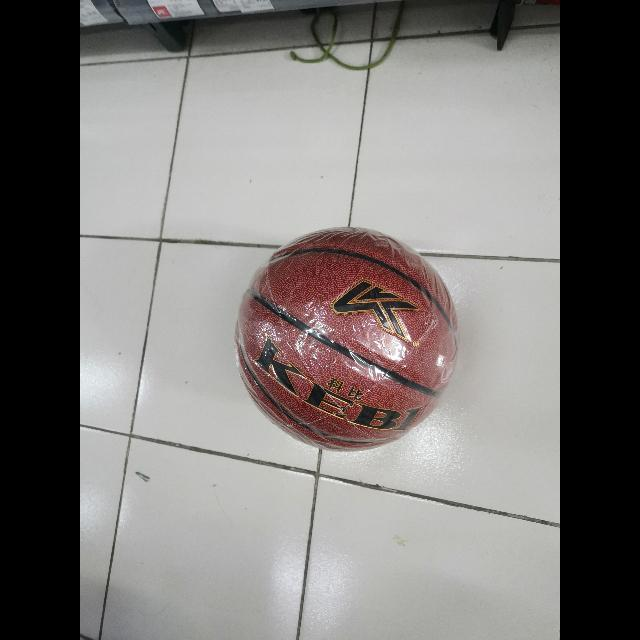basketball: (238, 230, 456, 450)
